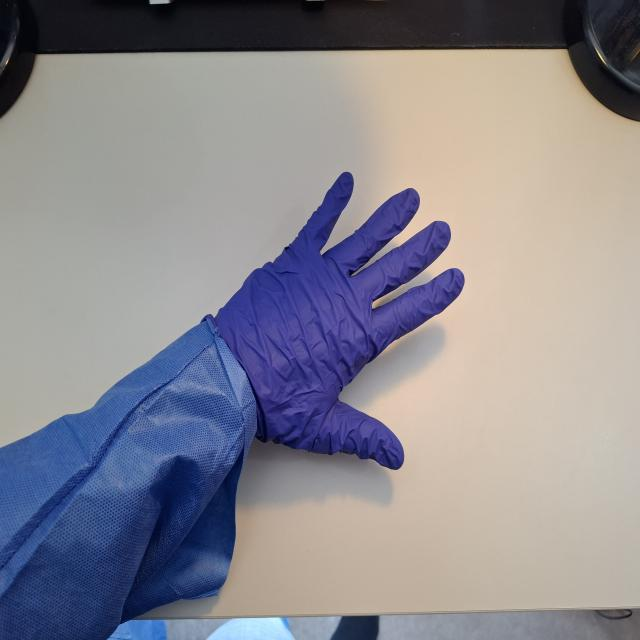glove_on: (200, 169, 467, 472)
